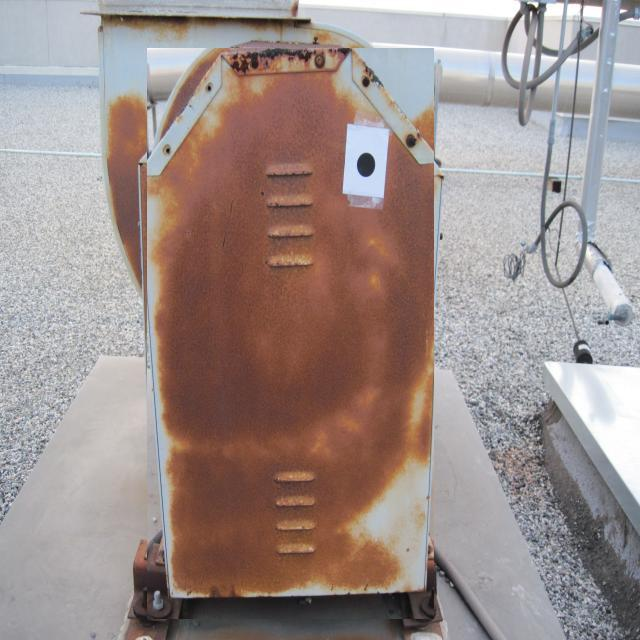Corrosion: (156, 66, 346, 478), (165, 449, 400, 598), (345, 202, 435, 496), (272, 317, 378, 534), (106, 95, 147, 282), (223, 47, 349, 75), (386, 148, 433, 219), (161, 60, 206, 130), (416, 106, 436, 148)
